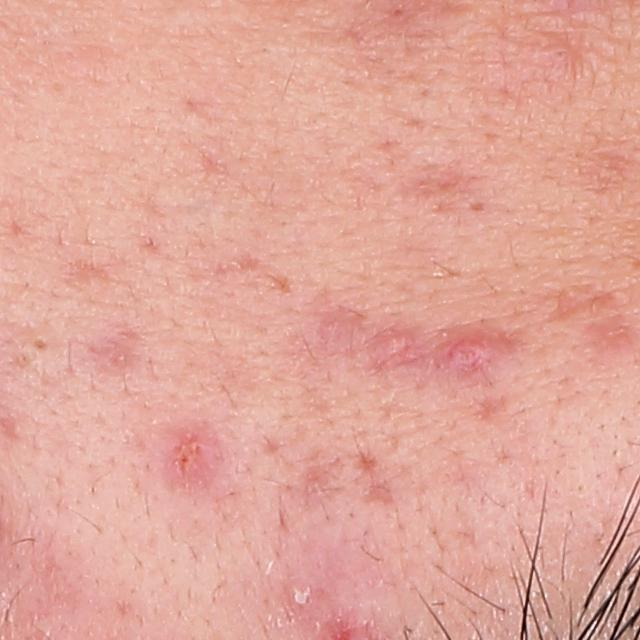atrophic_scar: (350, 452, 393, 504)
comedo: (538, 40, 573, 66), (30, 334, 49, 353)
papule: (432, 324, 508, 391), (152, 427, 220, 487), (370, 331, 414, 366)
pustule: (283, 583, 318, 611)
